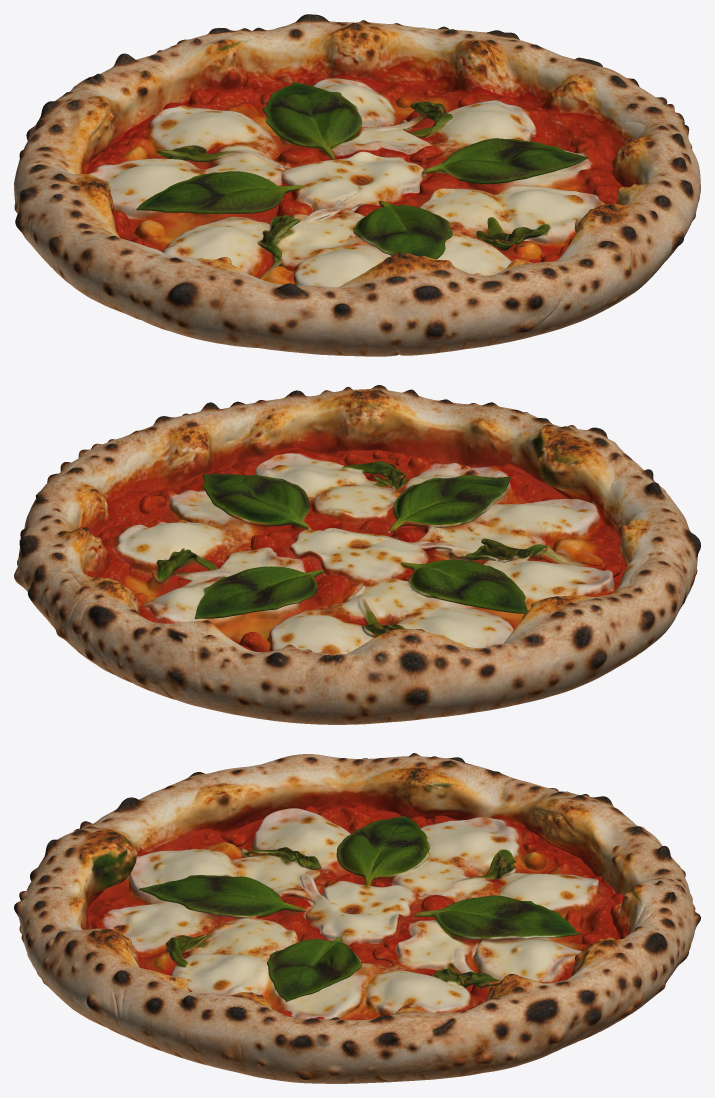
Rendered from pizza-opt.glb.
The picture shows the model from 3 angles, top to bottom: view 1: azimuth 30°, elevation 25°; view 2: azimuth 150°, elevation 25°; view 3: azimuth 270°, elevation 25°; orthographic projection. The views are drawn at different scales.
Visible parts, largest first — view 1: tripo_node_8e01d207-6344-4f84-be6e-3adca2f9c374; view 2: tripo_node_8e01d207-6344-4f84-be6e-3adca2f9c374; view 3: tripo_node_8e01d207-6344-4f84-be6e-3adca2f9c374.
Part boxes in pixels (x1,y1,x2,y2): tripo_node_8e01d207-6344-4f84-be6e-3adca2f9c374: (14,14,700,356); tripo_node_8e01d207-6344-4f84-be6e-3adca2f9c374: (14,385,700,724); tripo_node_8e01d207-6344-4f84-be6e-3adca2f9c374: (14,753,700,1083).
Size of the model in its own units: 0.9936 by 0.1682 by 1.
1 material, 1 textured.
